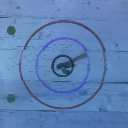Axe Tip: (64, 64, 75, 67)
